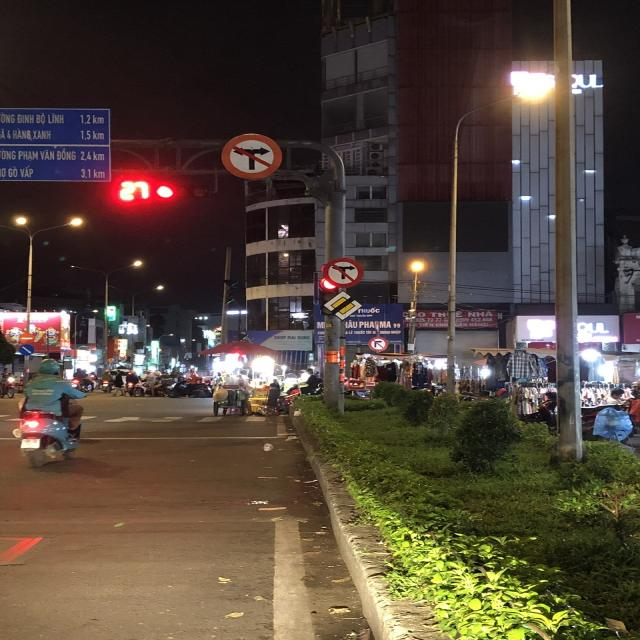Bien bao cam re phai: (367, 334, 392, 352)
